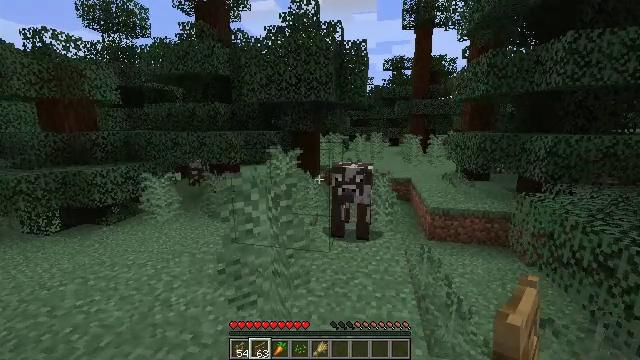cow: (334, 161, 374, 240)
